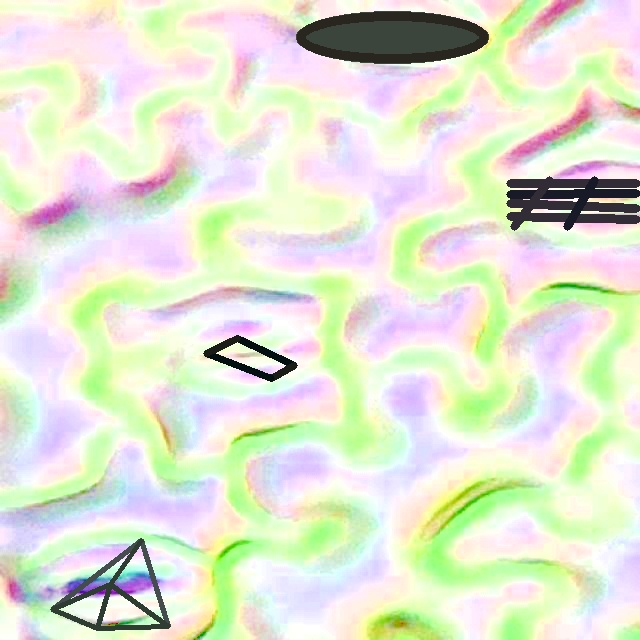open: (50, 539, 169, 629), (296, 10, 488, 63), (507, 177, 639, 230), (204, 336, 296, 380)
